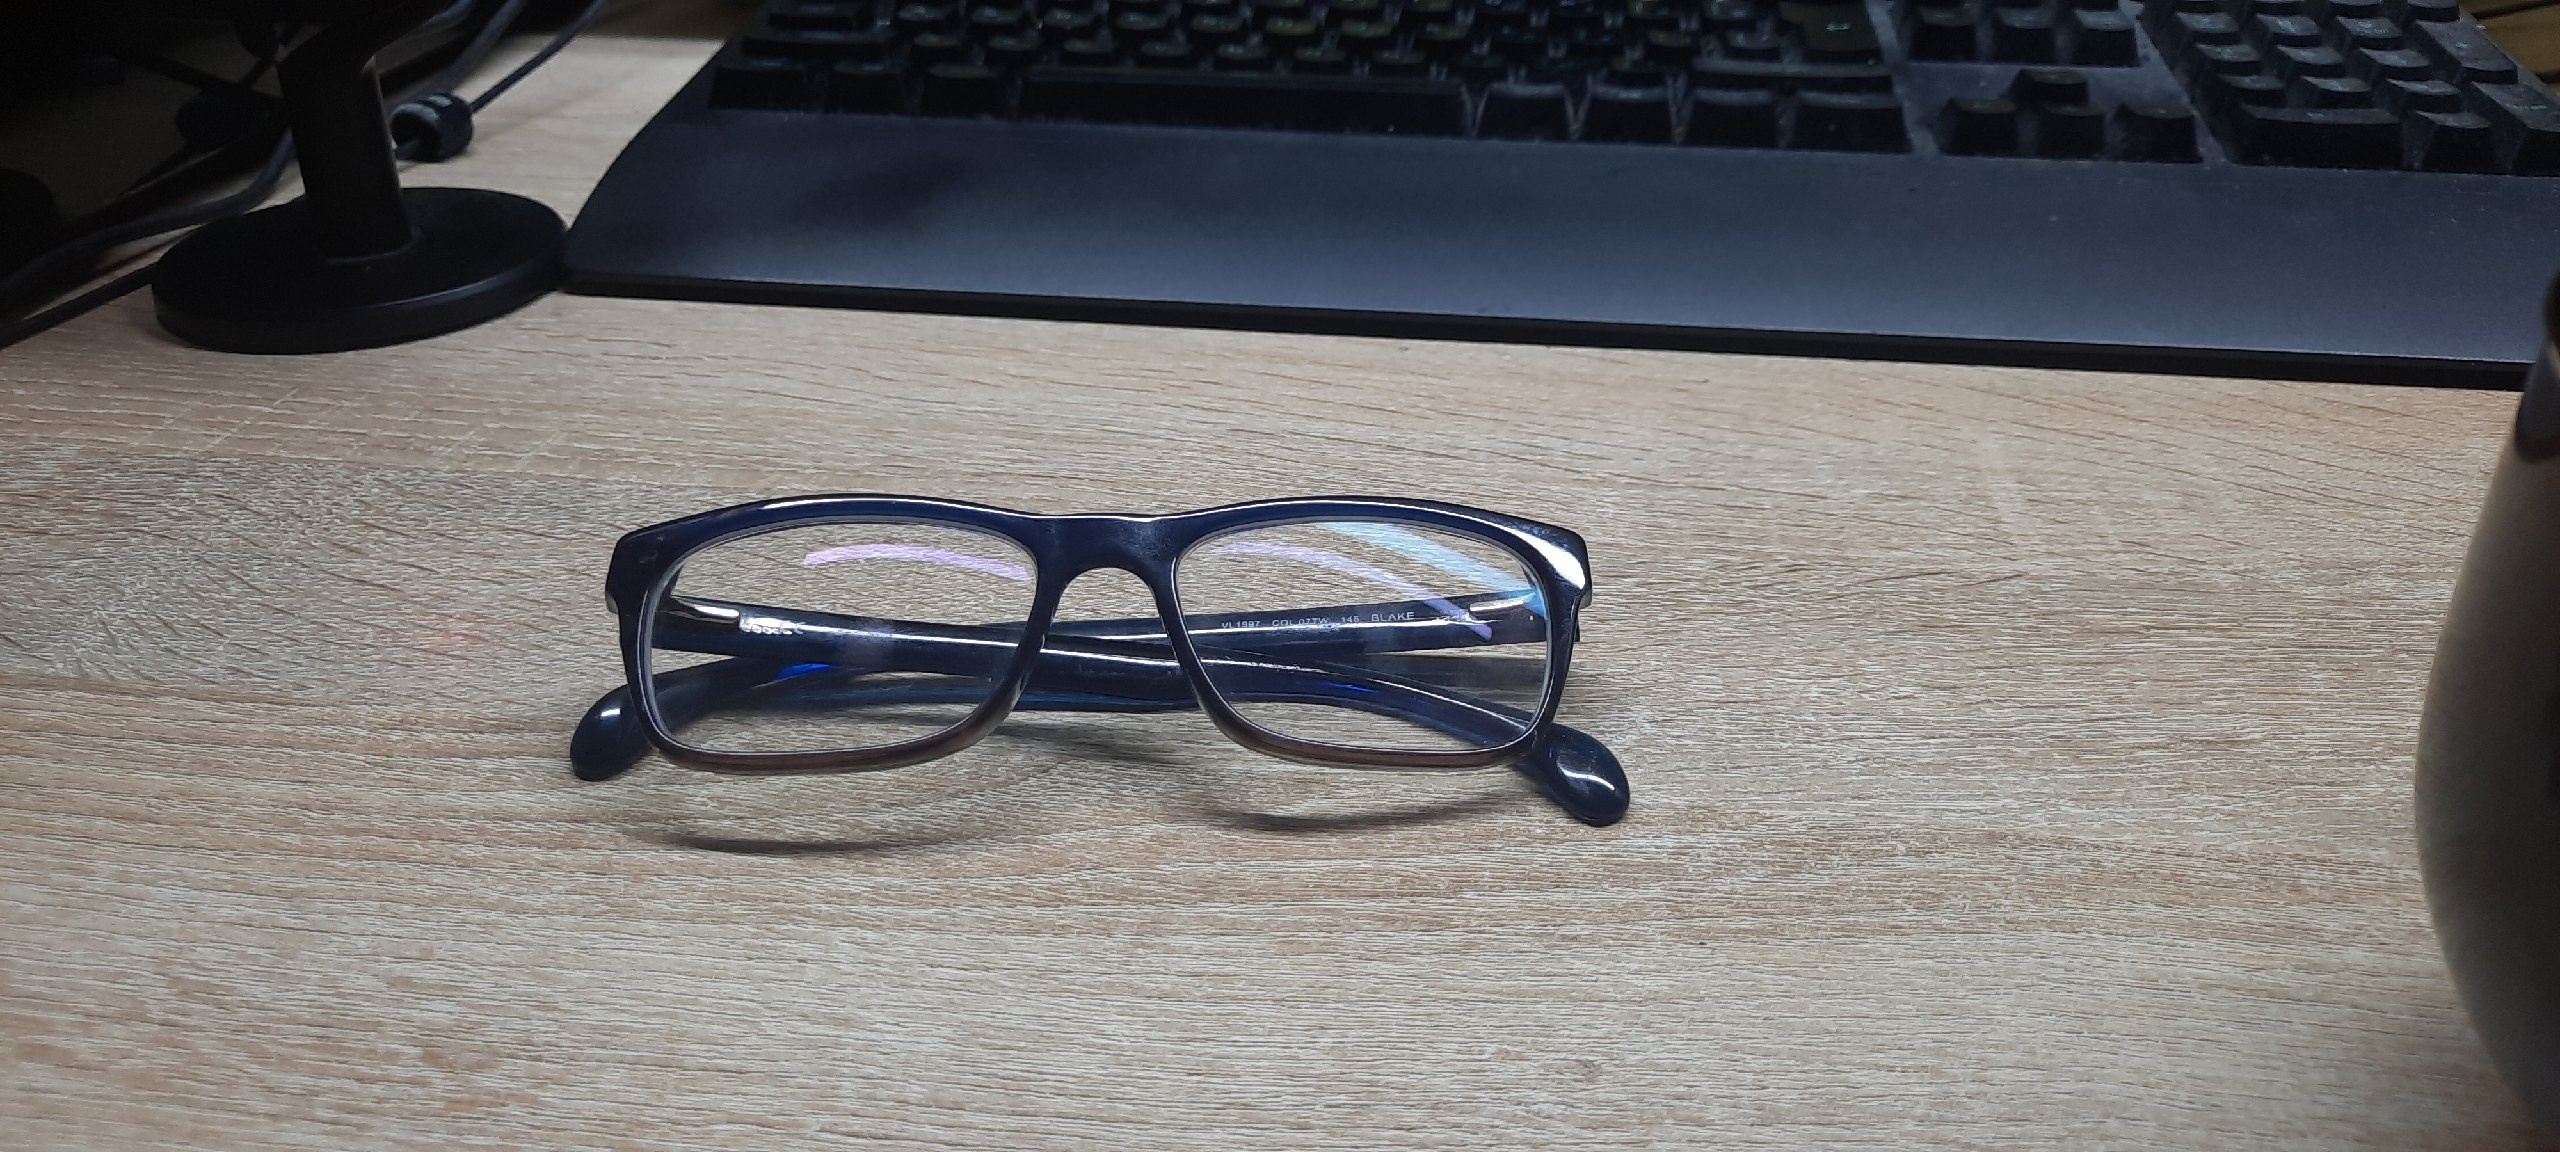glasses: (571, 494, 1628, 824)
